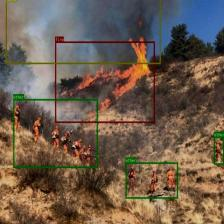fire: (54, 41, 154, 123)
smoke: (6, 0, 160, 64)
